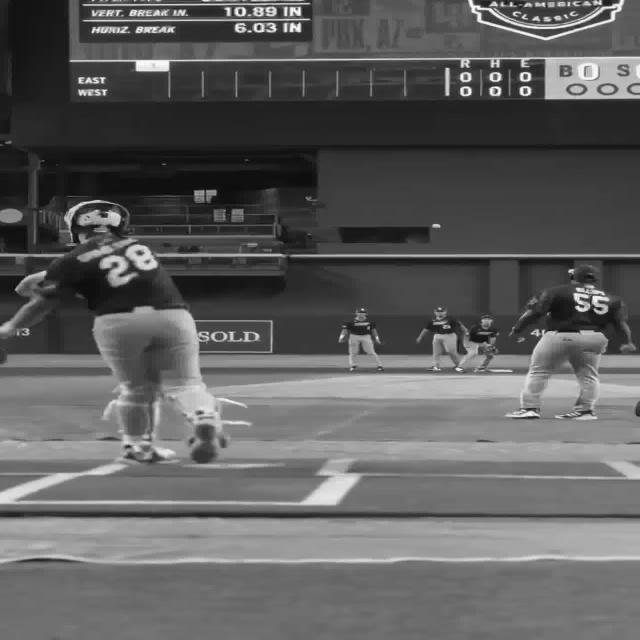base: (488, 369, 520, 373)
baseball: (431, 223, 441, 228)
shoe: (120, 444, 176, 464), (188, 436, 218, 463), (553, 410, 597, 420), (504, 408, 540, 418), (152, 447, 176, 462), (472, 367, 488, 372), (453, 367, 465, 372), (348, 365, 358, 371), (427, 366, 441, 370), (375, 366, 383, 370)
